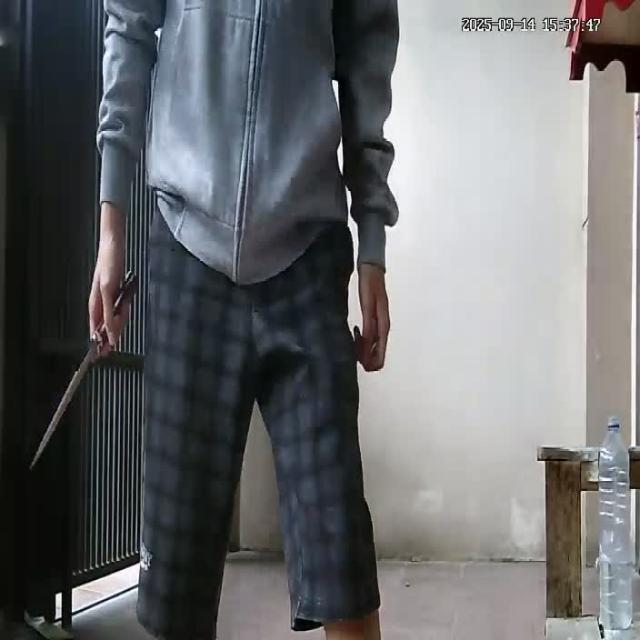senjata_tajam: (30, 324, 109, 470)
